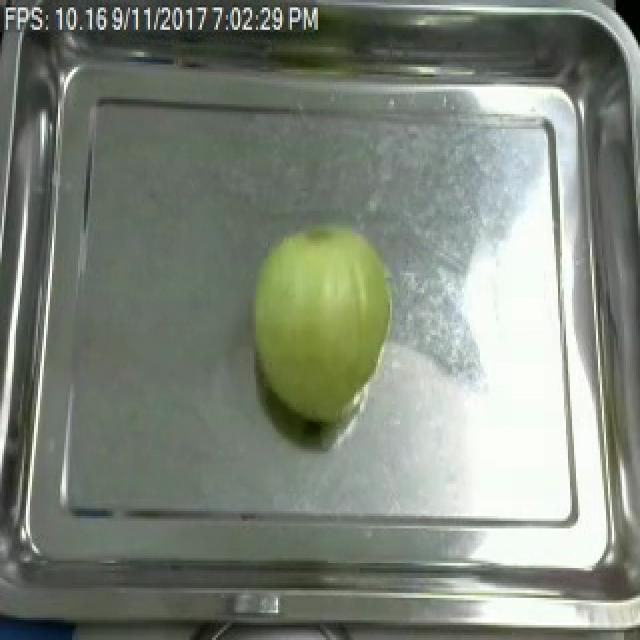Fruit: (242, 213, 400, 434)
